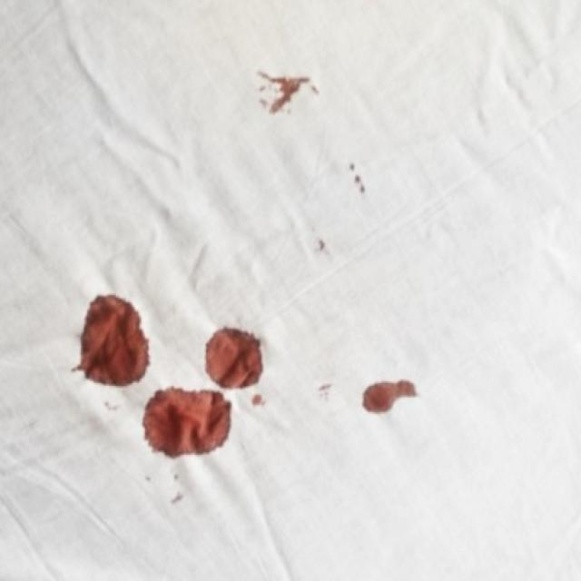blood: (75, 293, 154, 389), (140, 388, 237, 461), (205, 324, 265, 395), (357, 369, 423, 419)
